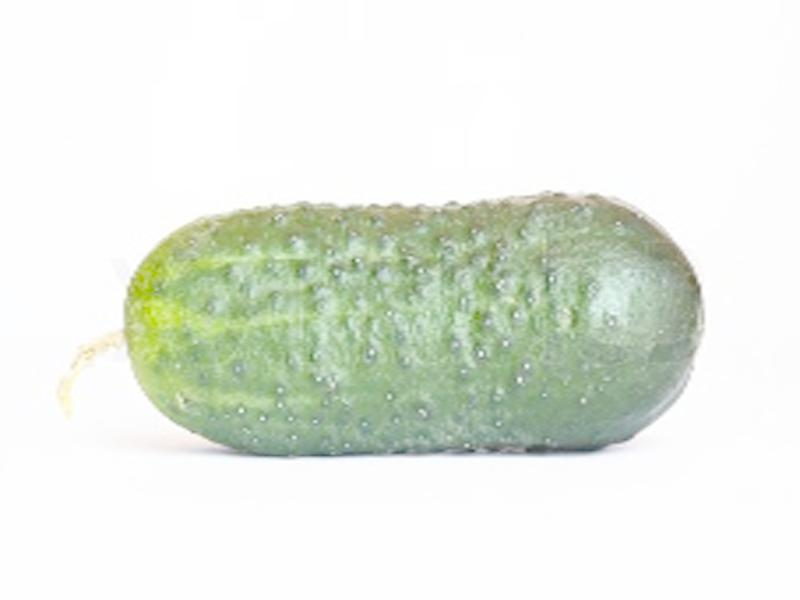Cucumber: (55, 188, 700, 457)
